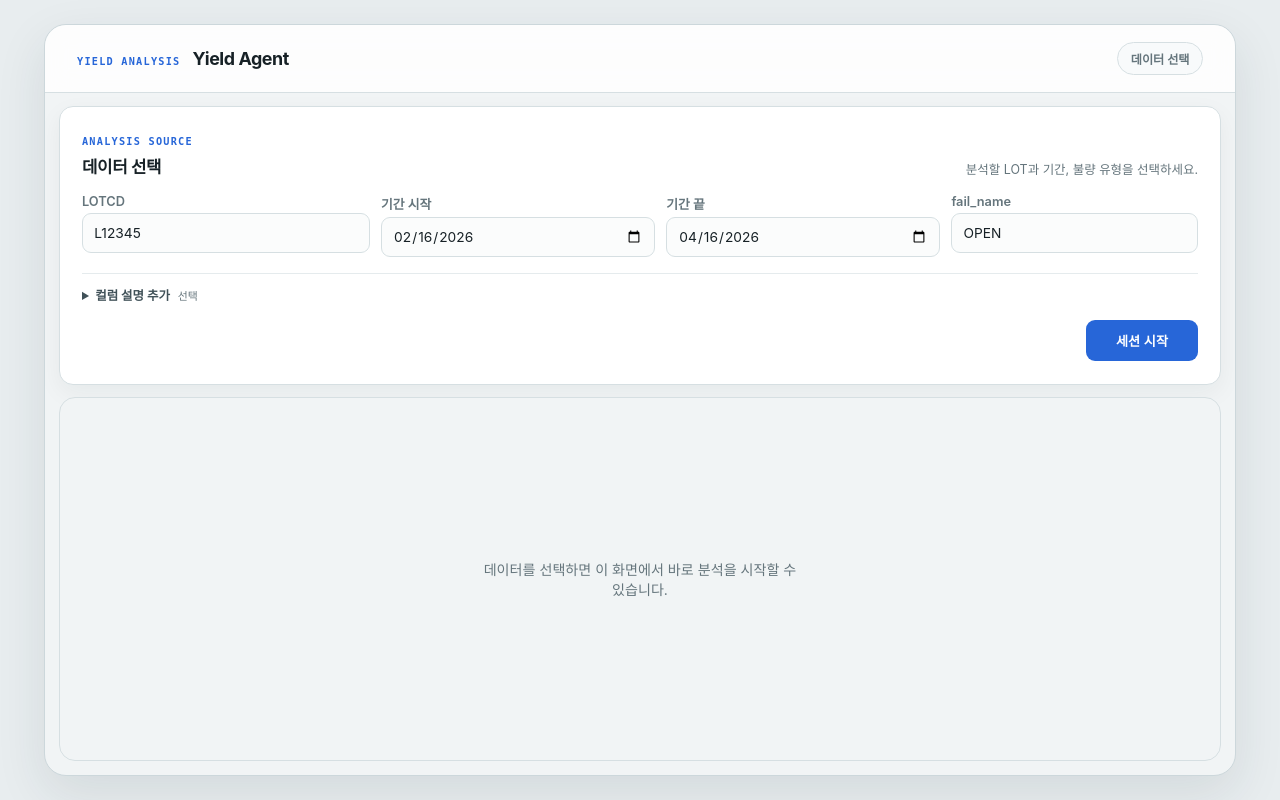
Scenario: App workspace › closes the server session before returning to the session form
The image size is (1280, 800).
What coordinates should you click on to do the following:
click the button "세션 시작"
I would click on:
 (1142, 341)
Its box is [1086,320,1198,361].
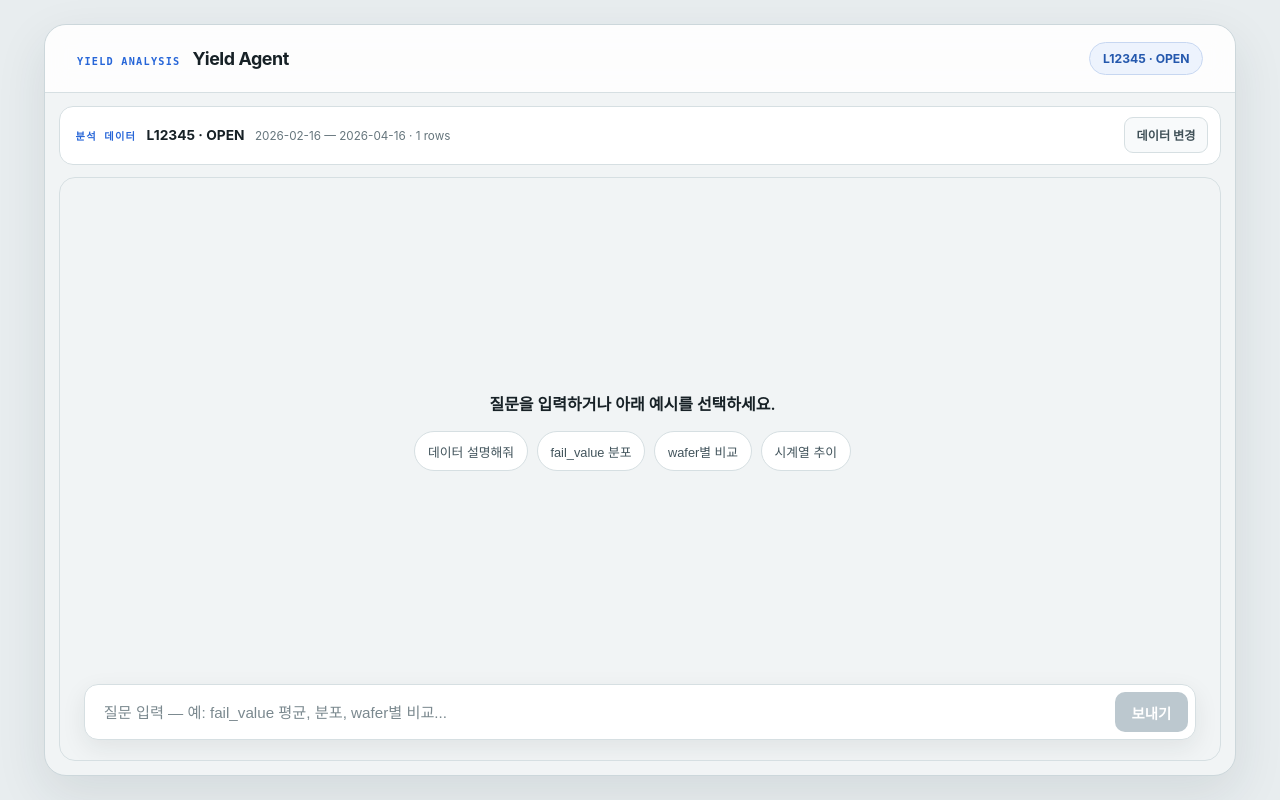
expect the text named "현재 데이터" reads "L12345 · OPEN": met, box [1090,42,1203,75]
What coordinates should you click on to do the following:
click the button "데이터 변경"
I would click on:
 (1166, 135)
Its box is [1124,117,1208,153].
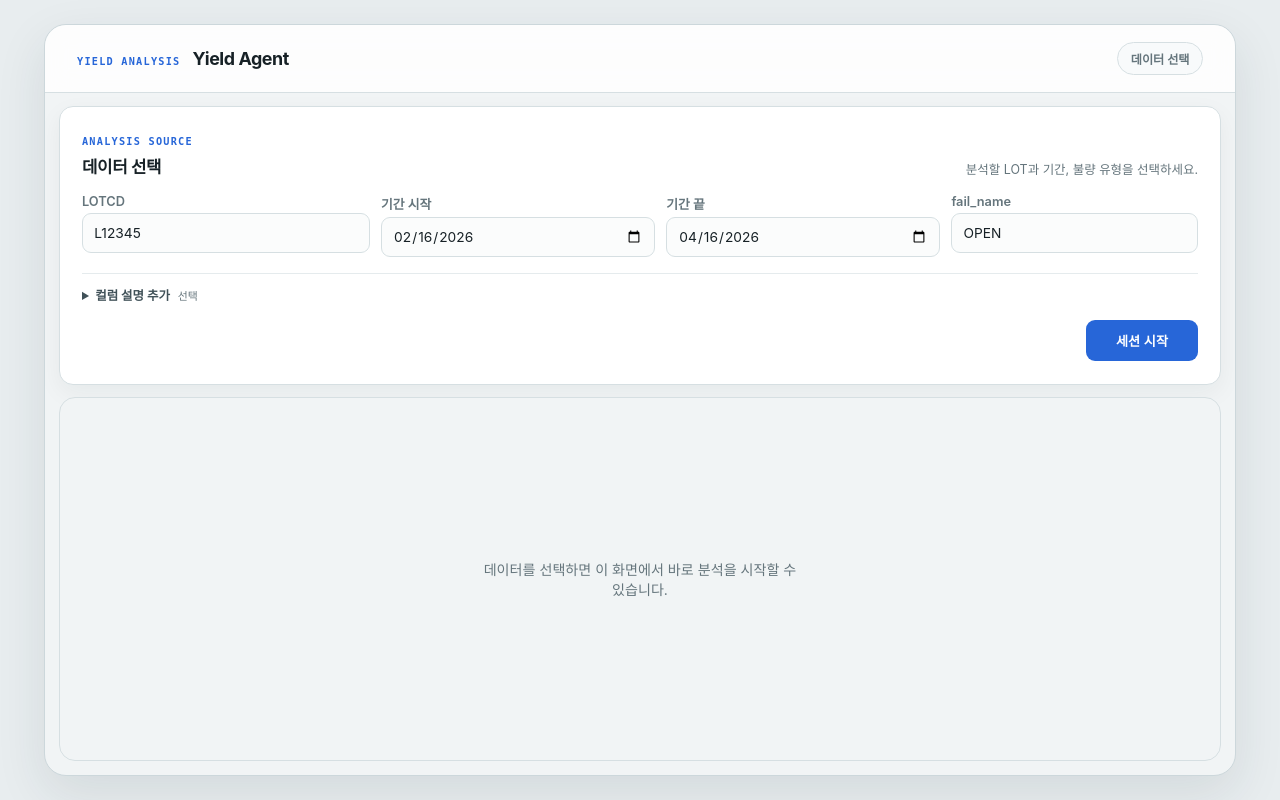
expect the heading "데이터 선택" is shown: met, box [82,157,161,177]
